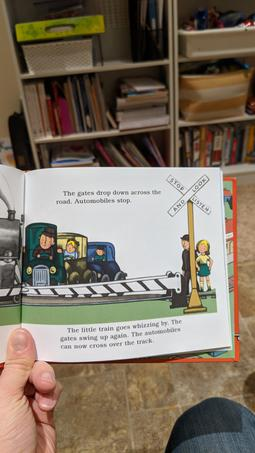text block: (50, 314, 190, 354), (50, 183, 170, 213)
